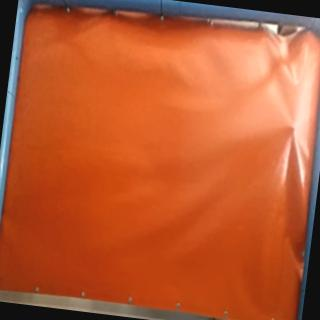Hit-hRxx: (285, 120, 301, 136)
